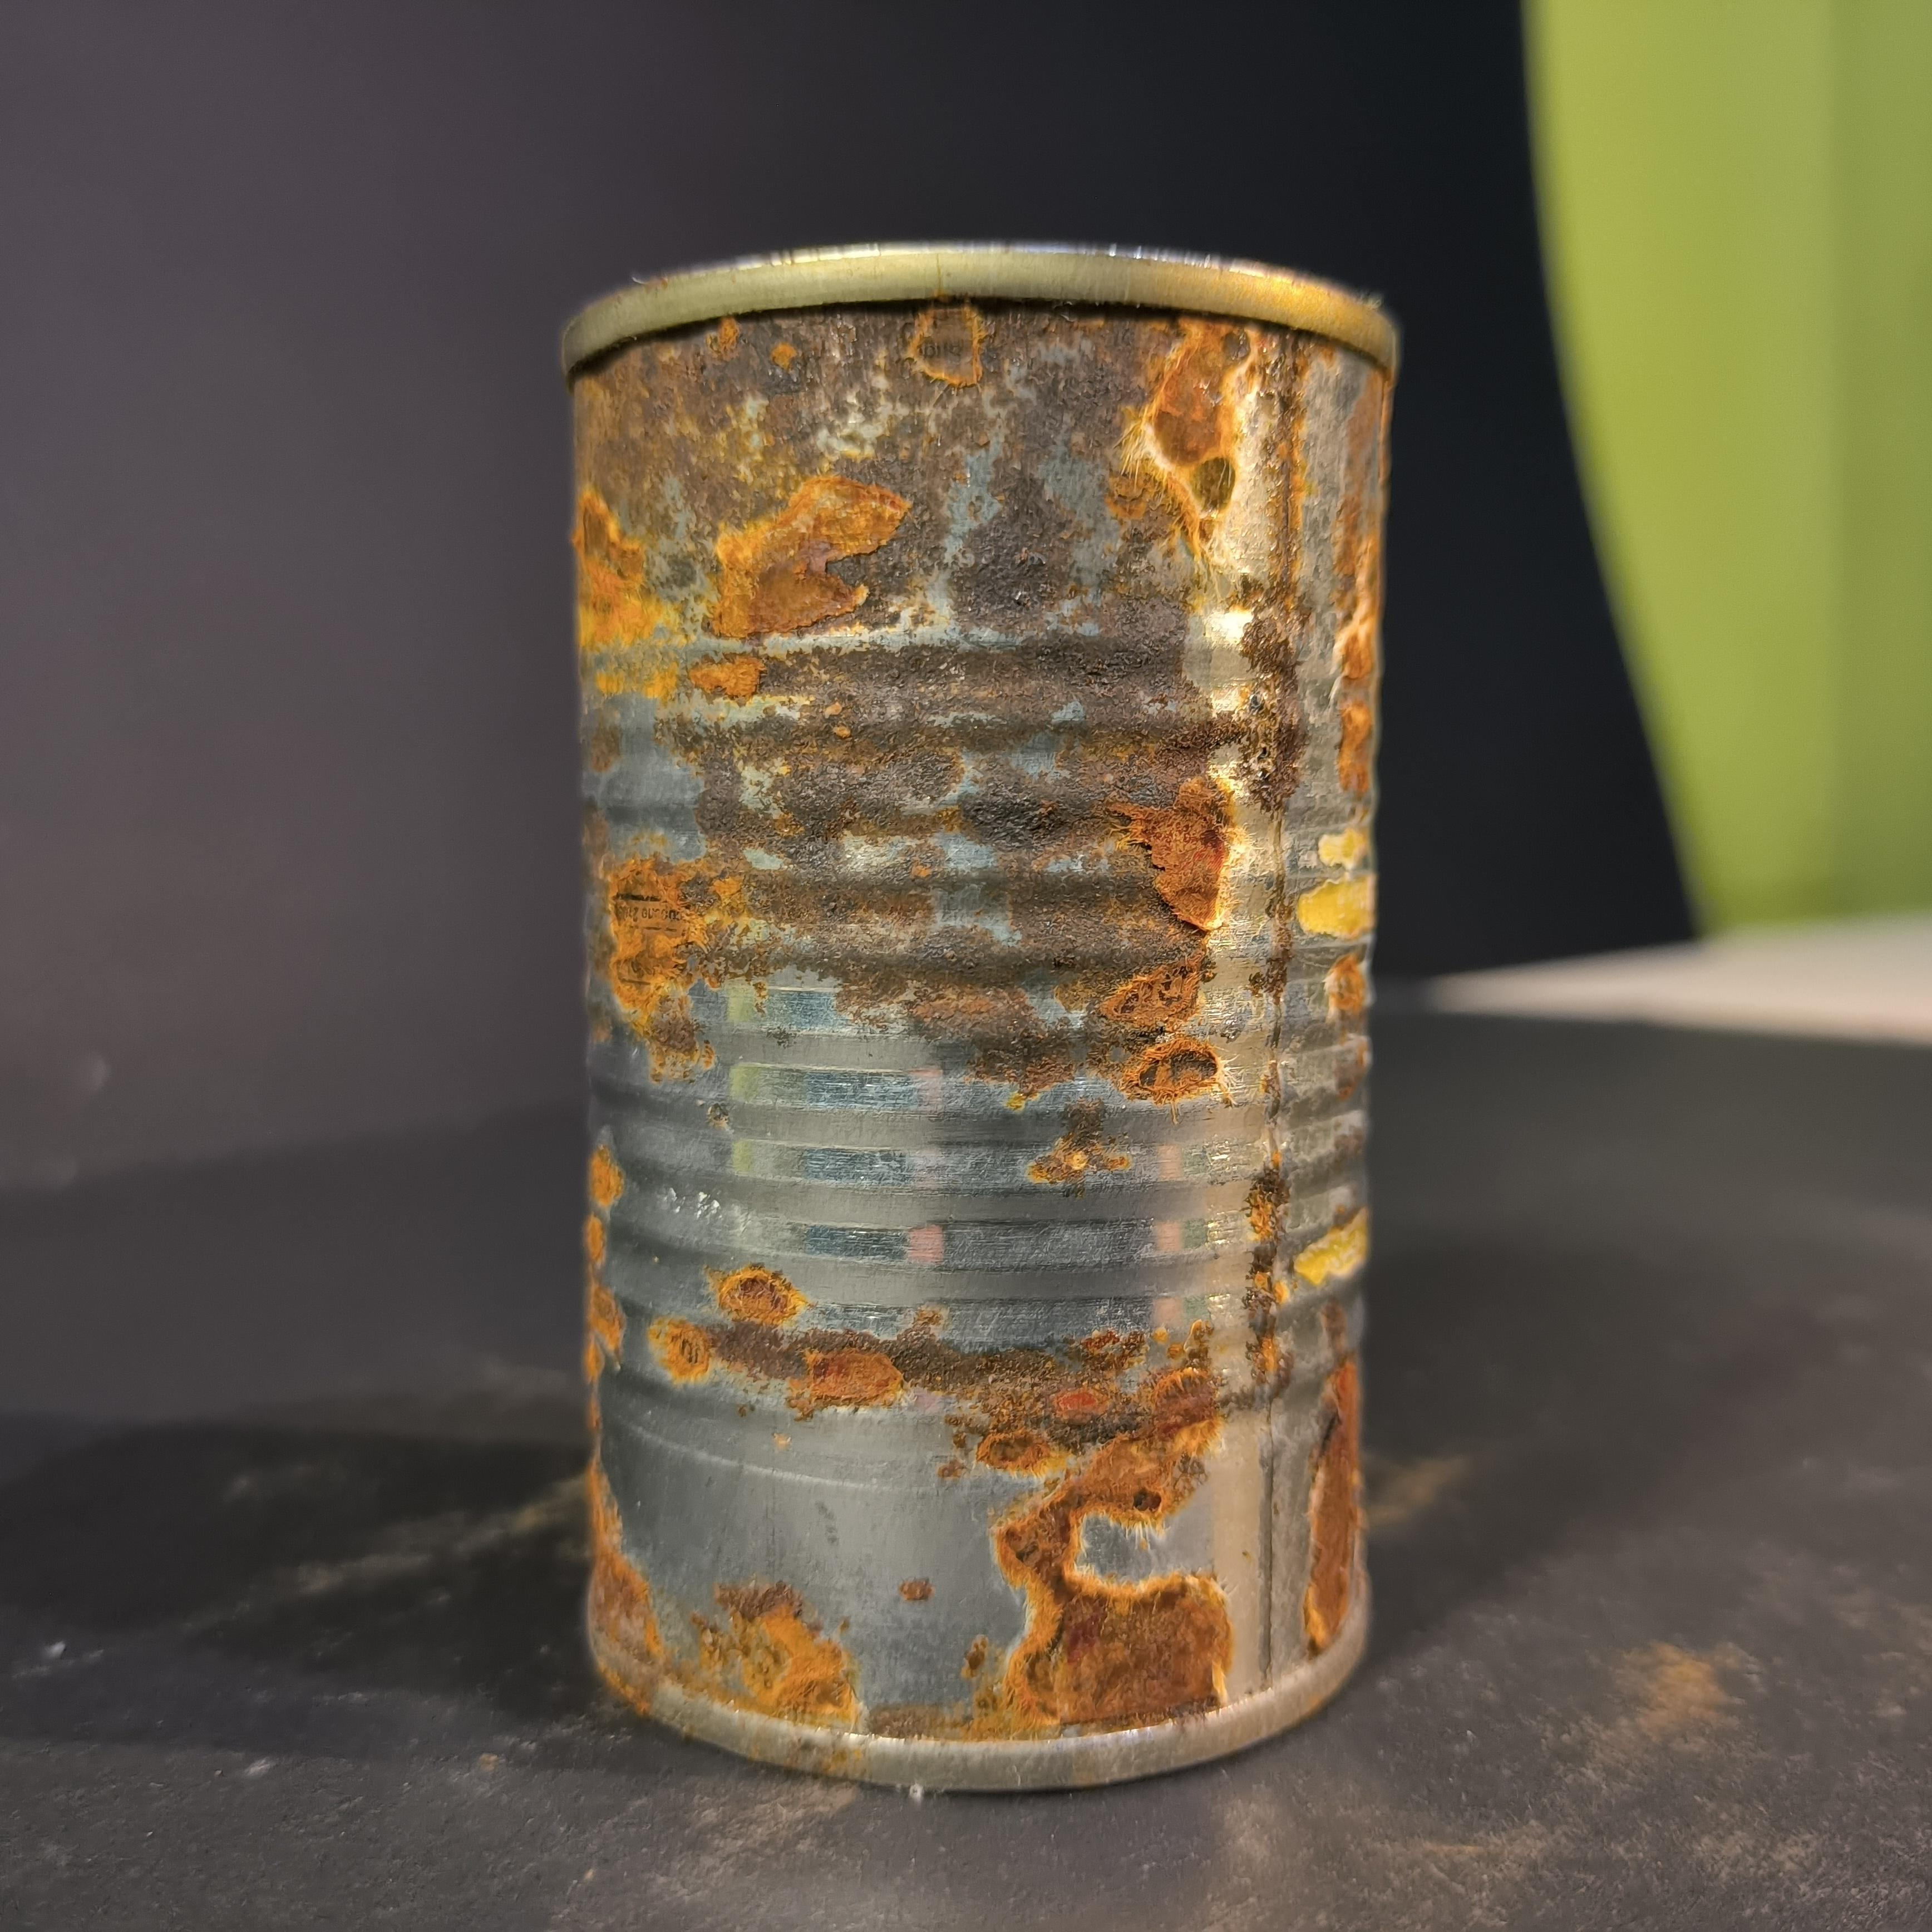Rusted: (504, 209, 1454, 1803)
